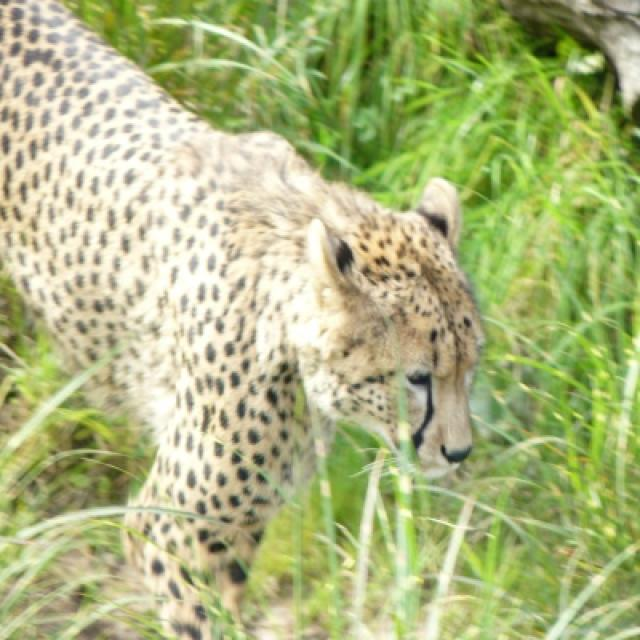Cheetah: (0, 0, 488, 638)
